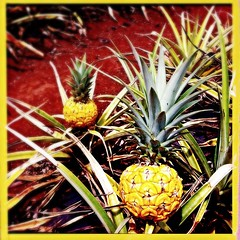Pineapple: (119, 46, 183, 220), (62, 55, 97, 124)
